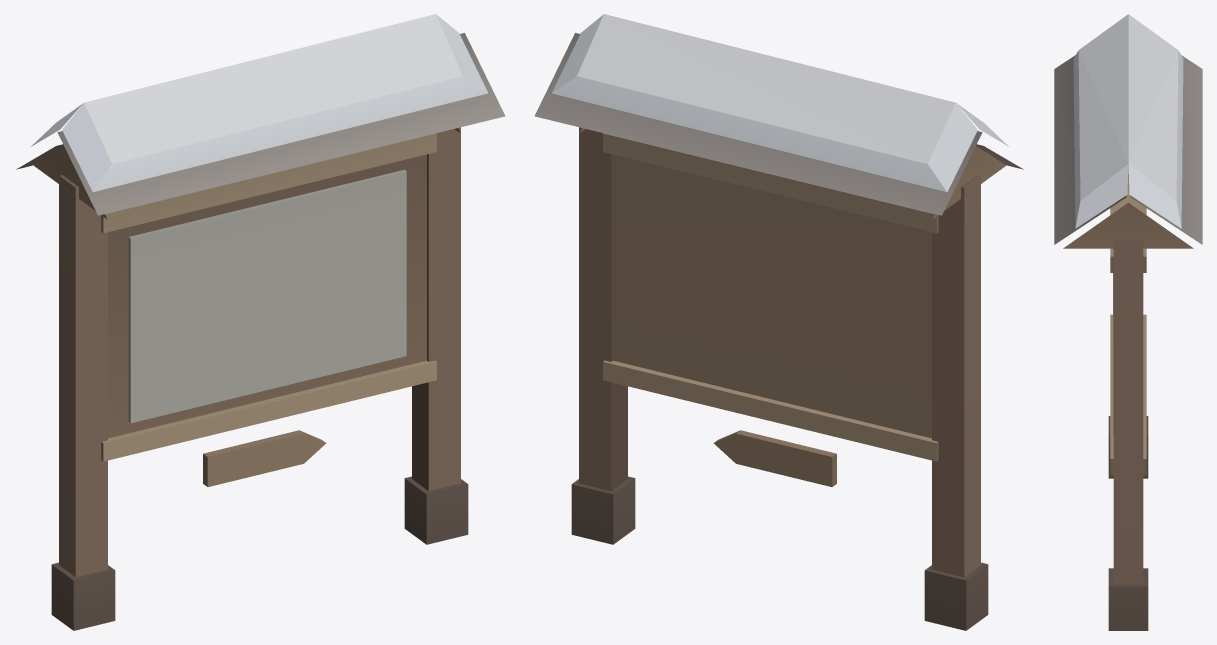
File: trailsign.lod2.glb
The picture shows the model from 3 angles, left to right: view 1: azimuth 30°, elevation 25°; view 2: azimuth 150°, elevation 25°; view 3: azimuth 270°, elevation 25°; orthographic projection. The views are drawn at different scales.
Bounding box in the file's own units: 2.54 × 3.08 × 0.9037.
